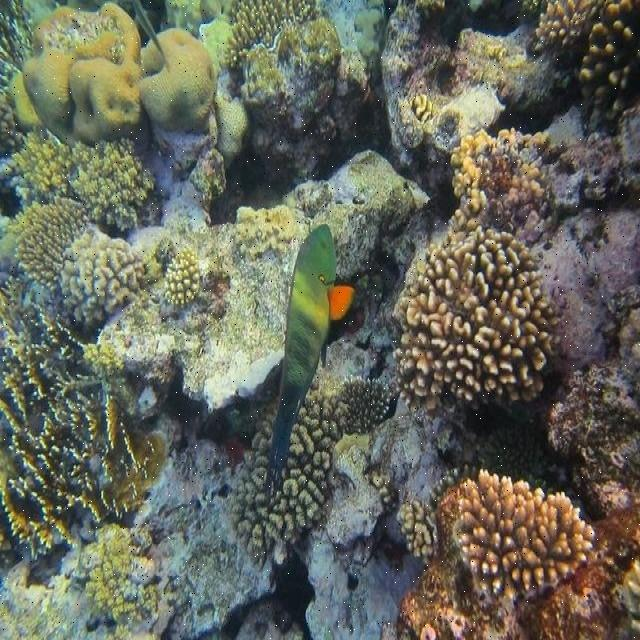fish: (265, 224, 355, 516)
reefs: (0, 273, 166, 552), (393, 225, 561, 408), (228, 390, 349, 570), (452, 469, 595, 598), (22, 3, 142, 147), (515, 0, 639, 128), (12, 127, 158, 227), (449, 129, 554, 246), (60, 223, 146, 324), (9, 195, 92, 292), (140, 28, 216, 129), (225, 0, 317, 69), (164, 246, 200, 306)
sea-floor: (383, 0, 579, 198), (239, 0, 386, 197)
